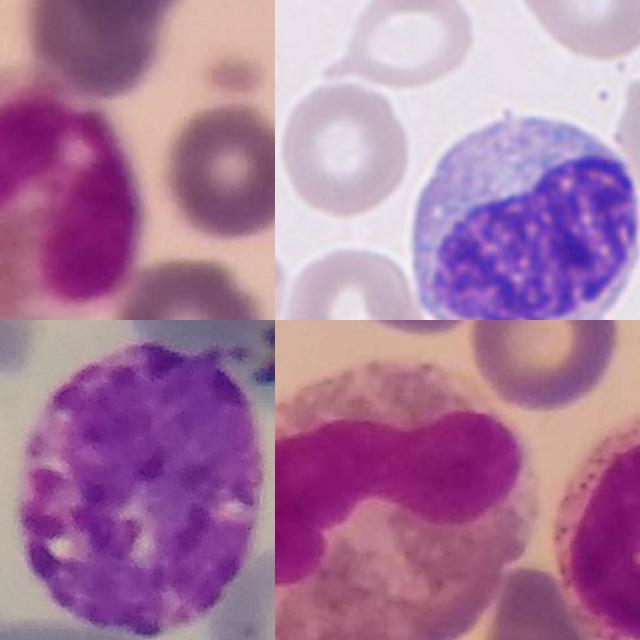Basophil: (19, 337, 264, 640)
Eosinophil: (275, 356, 536, 640), (0, 66, 141, 320)
Lymphocyte: (399, 99, 640, 320)
Monocyte: (549, 406, 640, 640)
RBC: (275, 78, 413, 222), (409, 256, 631, 320), (333, 0, 479, 92), (276, 238, 432, 320), (512, 0, 640, 63), (606, 67, 640, 200)
